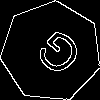G: (26, 26, 86, 86)
